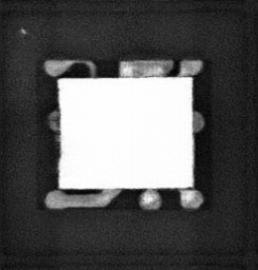DIE_INK: (19, 25, 29, 35)
